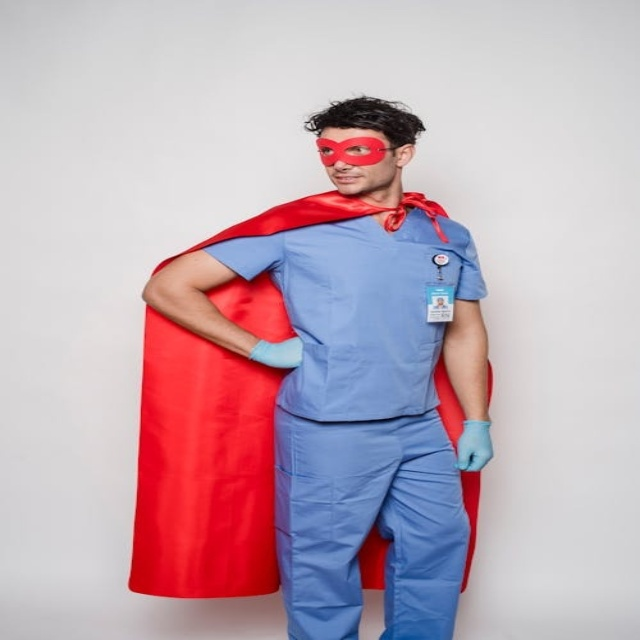Guantes: (454, 419, 493, 472), (247, 336, 303, 369)
Sin_mascara: (326, 169, 367, 193)
